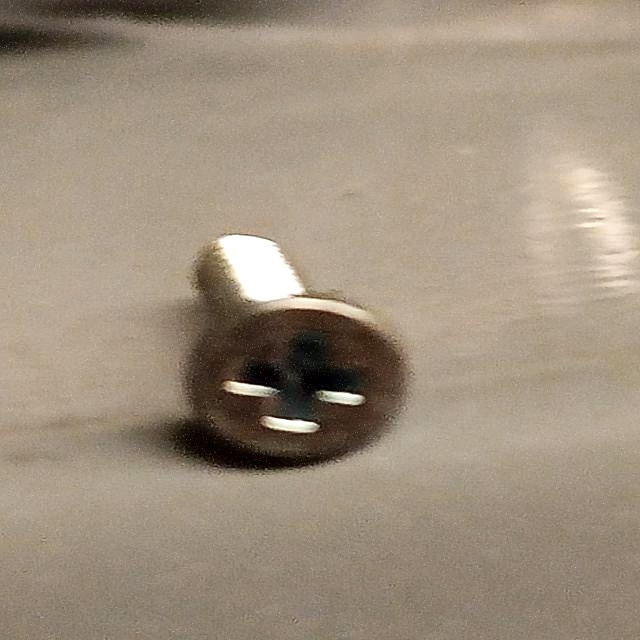phillips: (185, 297, 407, 466)
